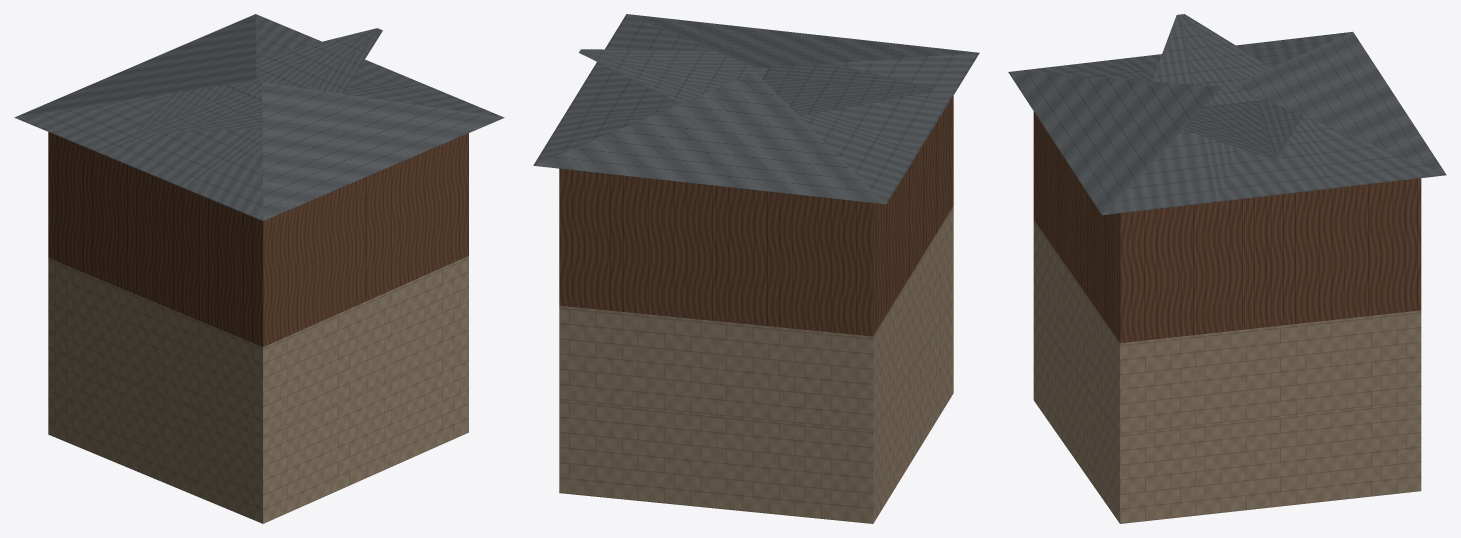
The model's file is bld_c5_37_528.gltf.
3 views of the same model, side by side, from view 1: azimuth 30°, elevation 25°; view 2: azimuth 150°, elevation 25°; view 3: azimuth 270°, elevation 25° (orthographic). The views are drawn at different scales.
Parts seen in each view (by area): view 1: bld_c5_37_528; view 2: bld_c5_37_528; view 3: bld_c5_37_528.
Boxes of the visible parts, left/top/right/bottom form: bld_c5_37_528: left=14, top=14, right=504, bottom=523; bld_c5_37_528: left=533, top=14, right=979, bottom=523; bld_c5_37_528: left=1008, top=14, right=1446, bottom=523.
Bounding box in the file's own units: 10.52 × 9.6 × 10.62.
Materials: 3 (3 with a texture image).
